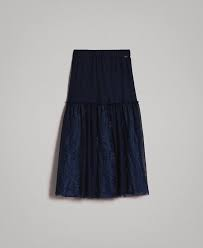S_skirt: (47, 50, 154, 210)
